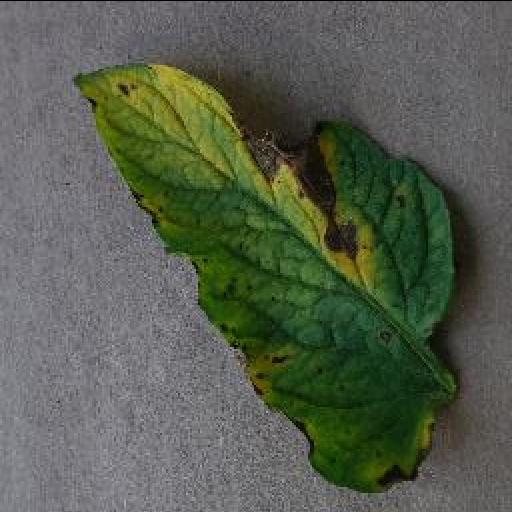Early Blight: (70, 54, 466, 488)
